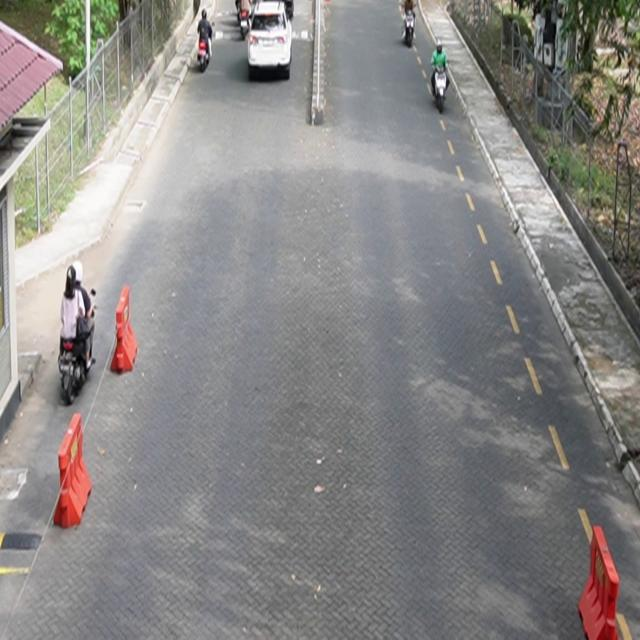car: (246, 1, 293, 80)
